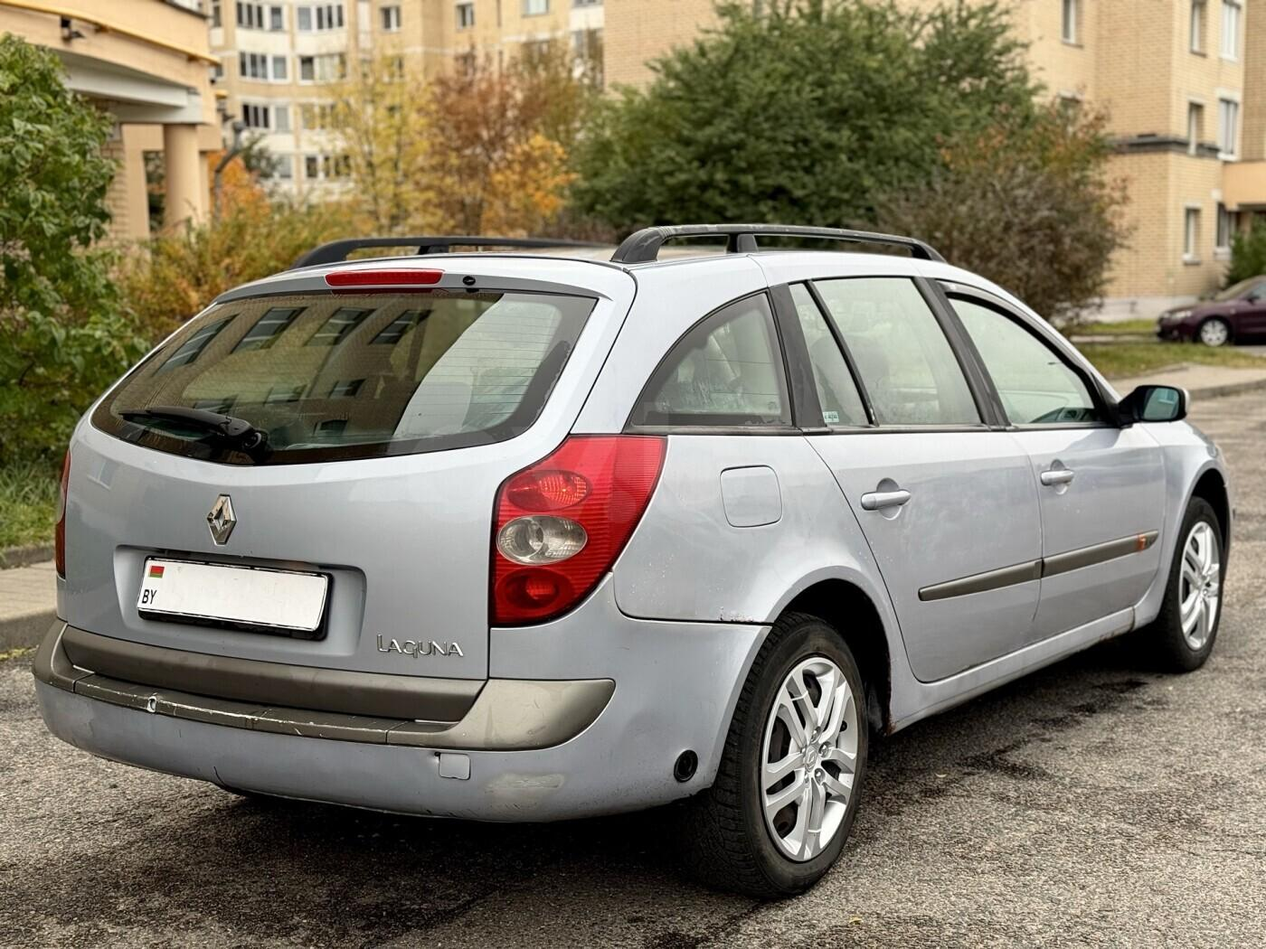Laguna_2001-2005: (37, 225, 1233, 897)
